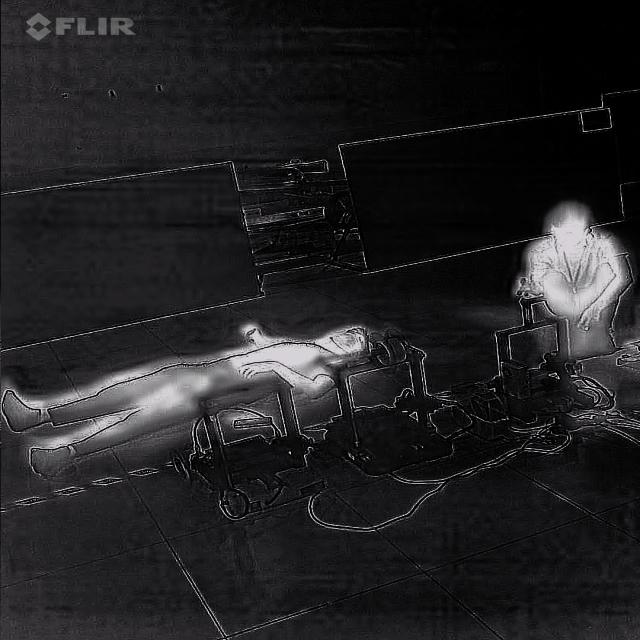Victim: (3, 321, 381, 485), (517, 193, 638, 359)
